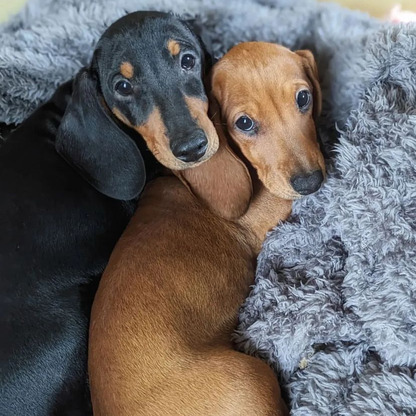dachshund: (56, 19, 216, 220), (202, 34, 343, 217)
